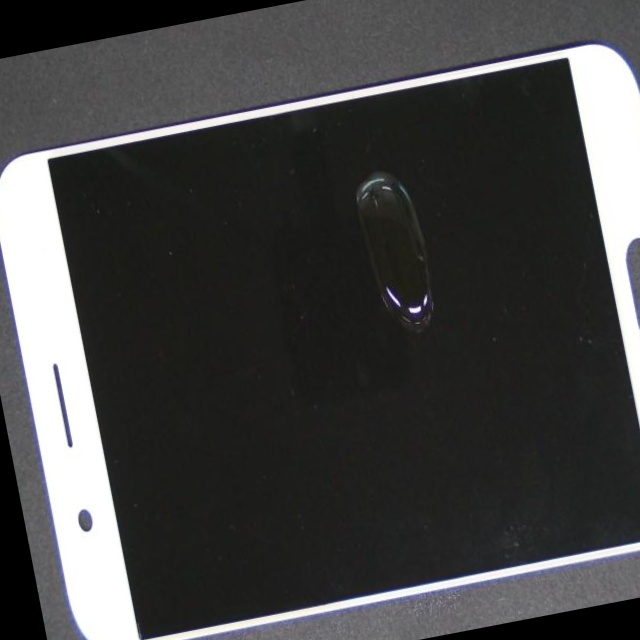oil: (170, 37, 592, 322)
